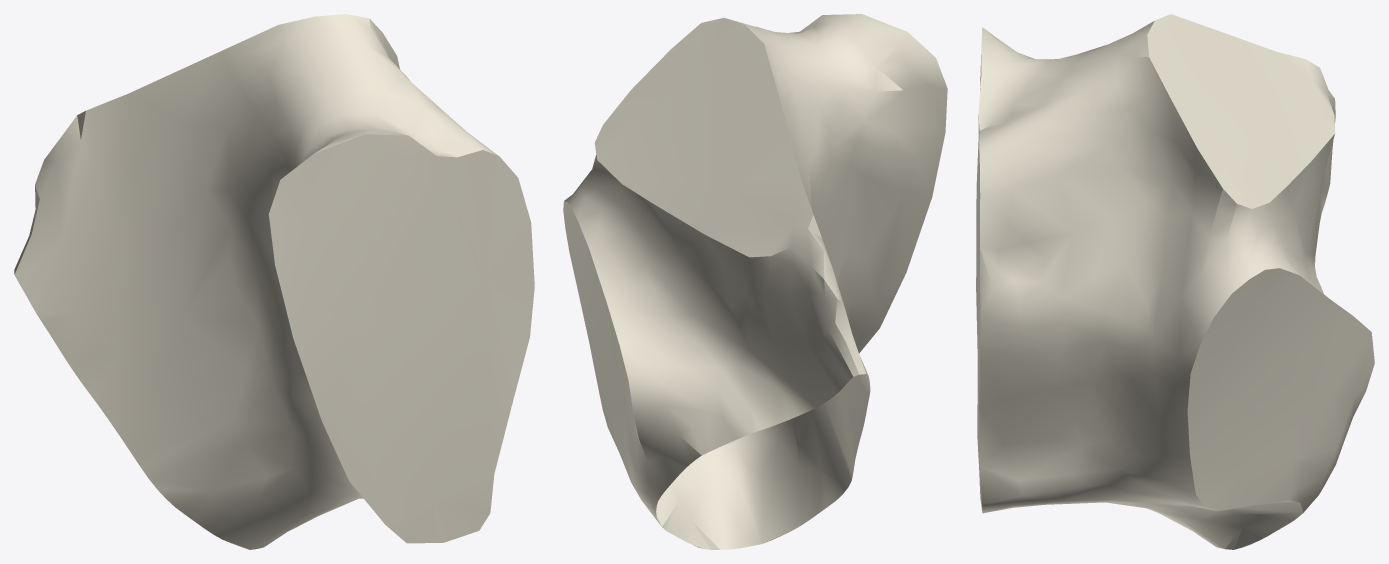
Rendered from fma12086_mm2394.glb.
The picture shows the model from 3 angles, left to right: view 1: azimuth 30°, elevation 25°; view 2: azimuth 150°, elevation 25°; view 3: azimuth 270°, elevation 25°; orthographic projection. The views are drawn at different scales.
Visible parts, largest first — view 1: FMA12086_MM2394; view 2: FMA12086_MM2394; view 3: FMA12086_MM2394.
Part boxes in pixels (box(x1,y1,x2,y2)): FMA12086_MM2394: box(14, 14, 534, 549); FMA12086_MM2394: box(563, 14, 947, 549); FMA12086_MM2394: box(976, 14, 1374, 549).
Size of the model in its own units: 0.0161 by 0.0215 by 0.0146.
